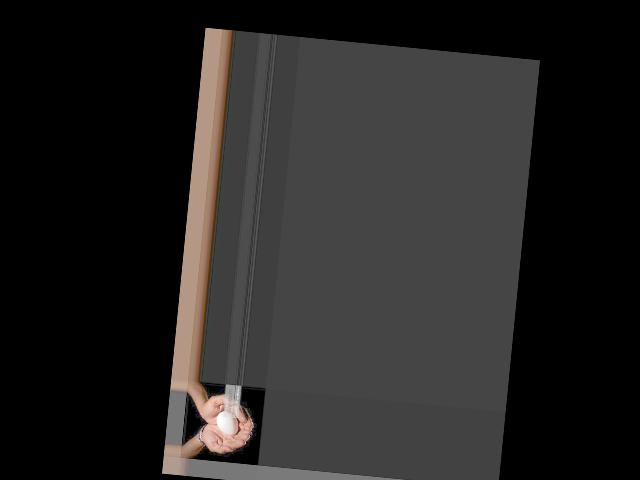egg: (215, 411, 240, 436)
